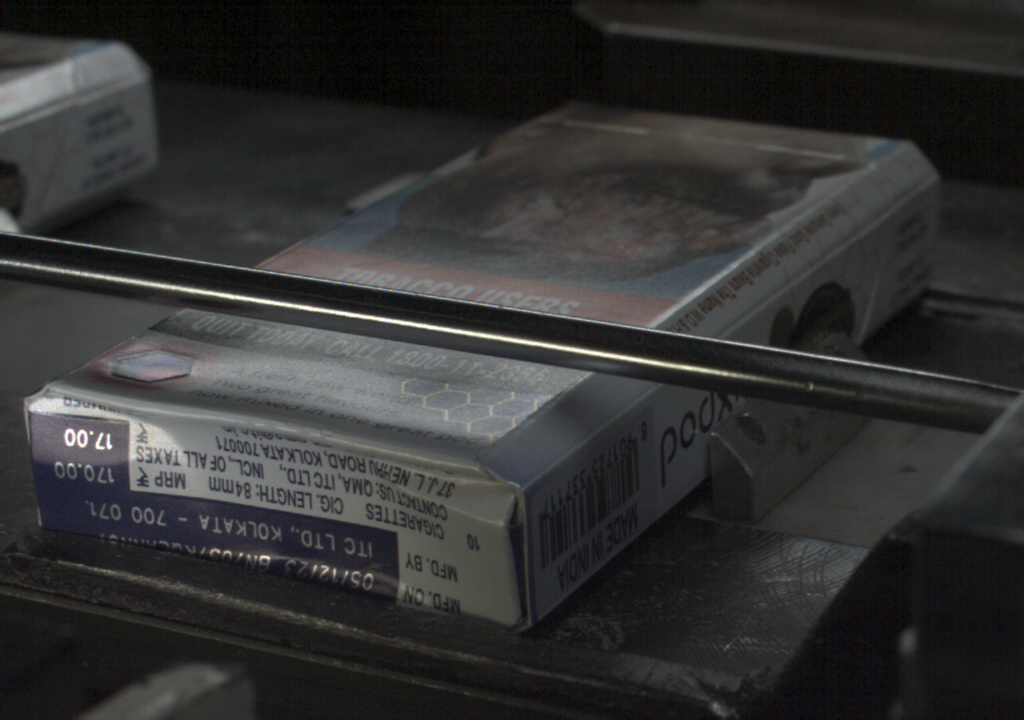g_lmiter: (723, 263, 819, 332), (819, 206, 896, 263), (591, 382, 664, 438), (526, 438, 594, 490)
g_miter: (896, 170, 938, 208)
ng_bottom: (21, 377, 529, 628)
ng_label: (42, 490, 398, 599)
price: (33, 418, 133, 488)
